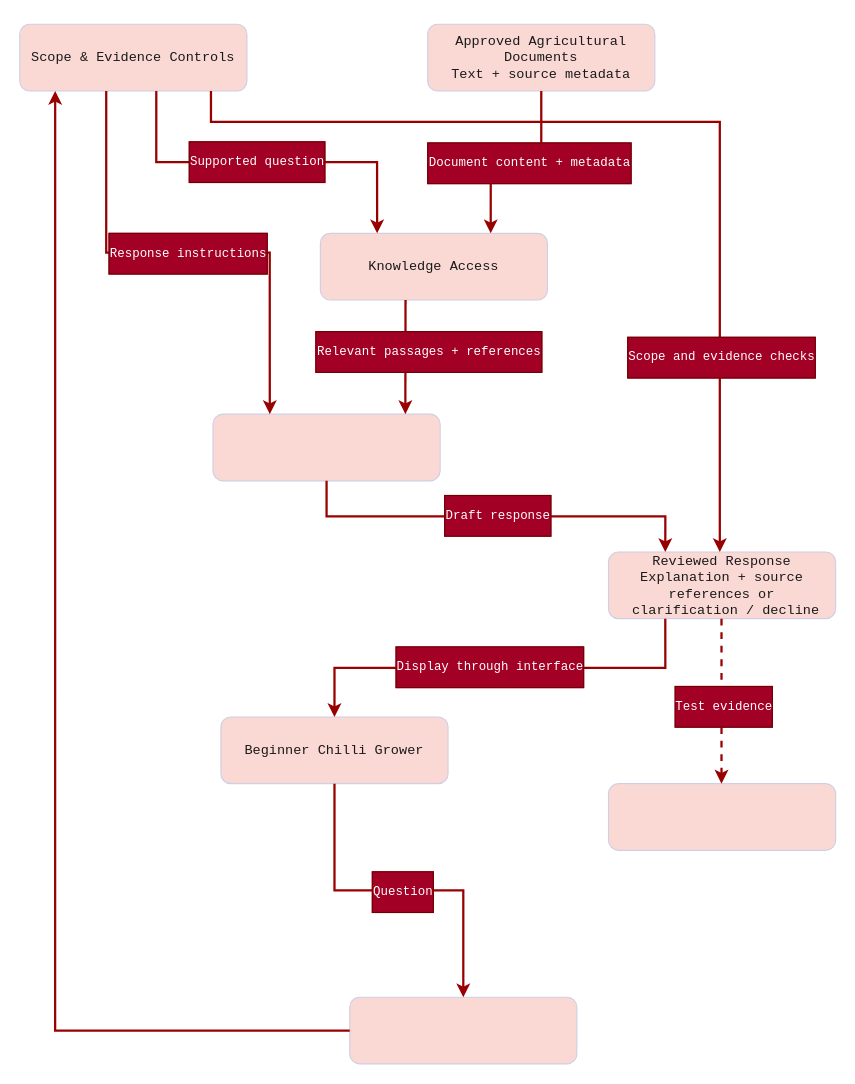
The diagram is 855 pixels wide and 1084 high, and some of its shapes have lost their labels. The shapes that lost their labels are listed below. From the top down, each one's box as (x1, y1, x2, y2) in pixels, then its label:
(212, 413, 440, 481): Language Model Service Generate clear explanations
(607, 783, 836, 850): Evaluation Records Responses, references, decisions & timing
(349, 996, 577, 1064): Application Interface Bahasa Melayu questions
